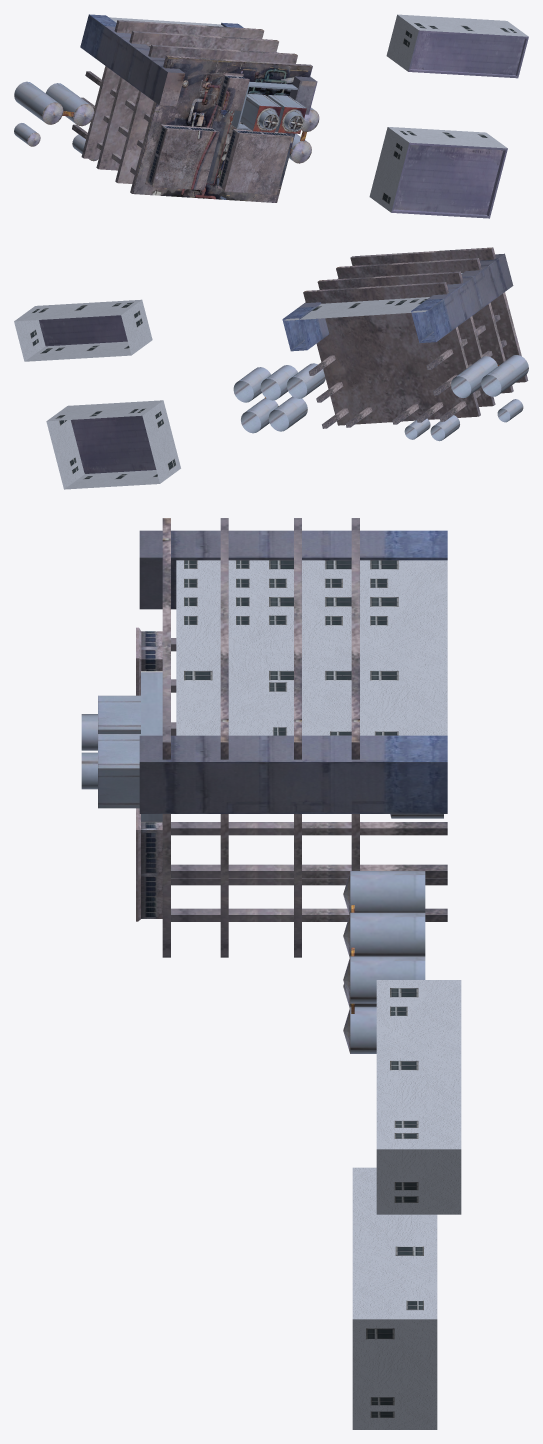
File: building_p5_08.fbx
3 renders of one model, top to bottom at view 1: azimuth 30°, elevation 25°; view 2: azimuth 150°, elevation 25°; view 3: azimuth 270°, elevation 25°, orthographic. The views are drawn at different scales.
Parts seen in each view (by area): view 1: Building_P5_08; view 2: Building_P5_08; view 3: Building_P5_08.
Boxes of the visible parts, x1,y1,x2,y2 form: Building_P5_08: [14, 14, 528, 218]; Building_P5_08: [14, 247, 528, 489]; Building_P5_08: [81, 518, 461, 1429].
Size of the model in its own units: 11969 by 6557 by 4031.
